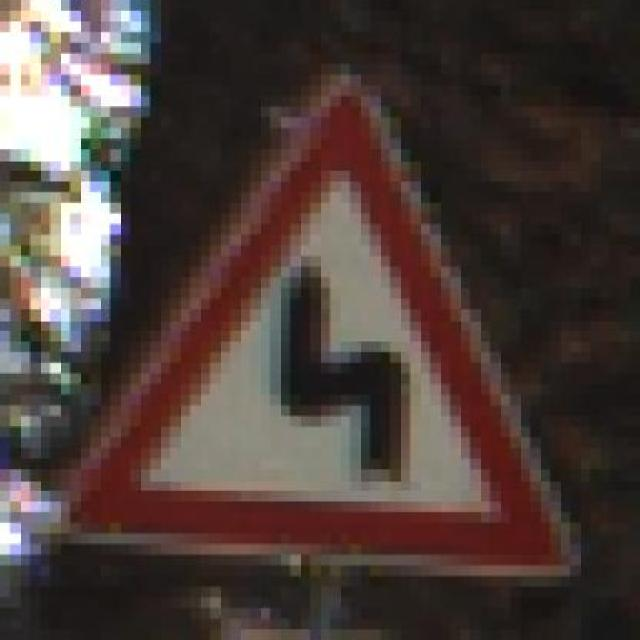Left Zig Zag Traffic: (59, 64, 590, 587)
